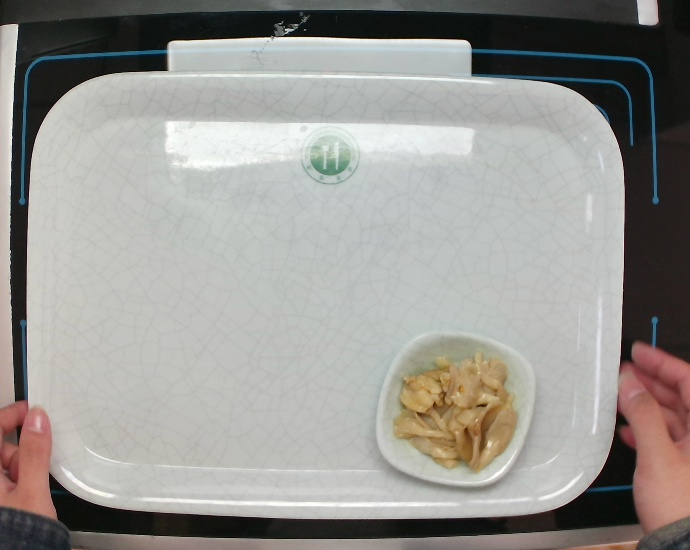JYsf-Si_Fang_Die: (371, 329, 537, 490)
